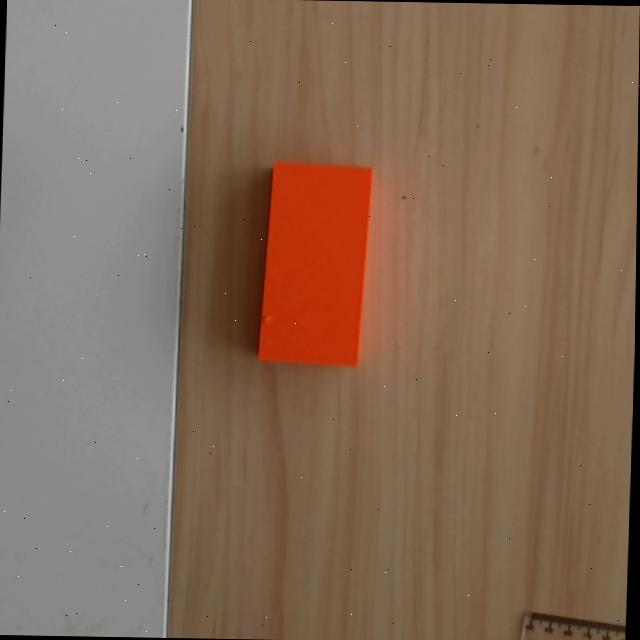Balok-Jingga-1005025: (256, 159, 371, 367)
